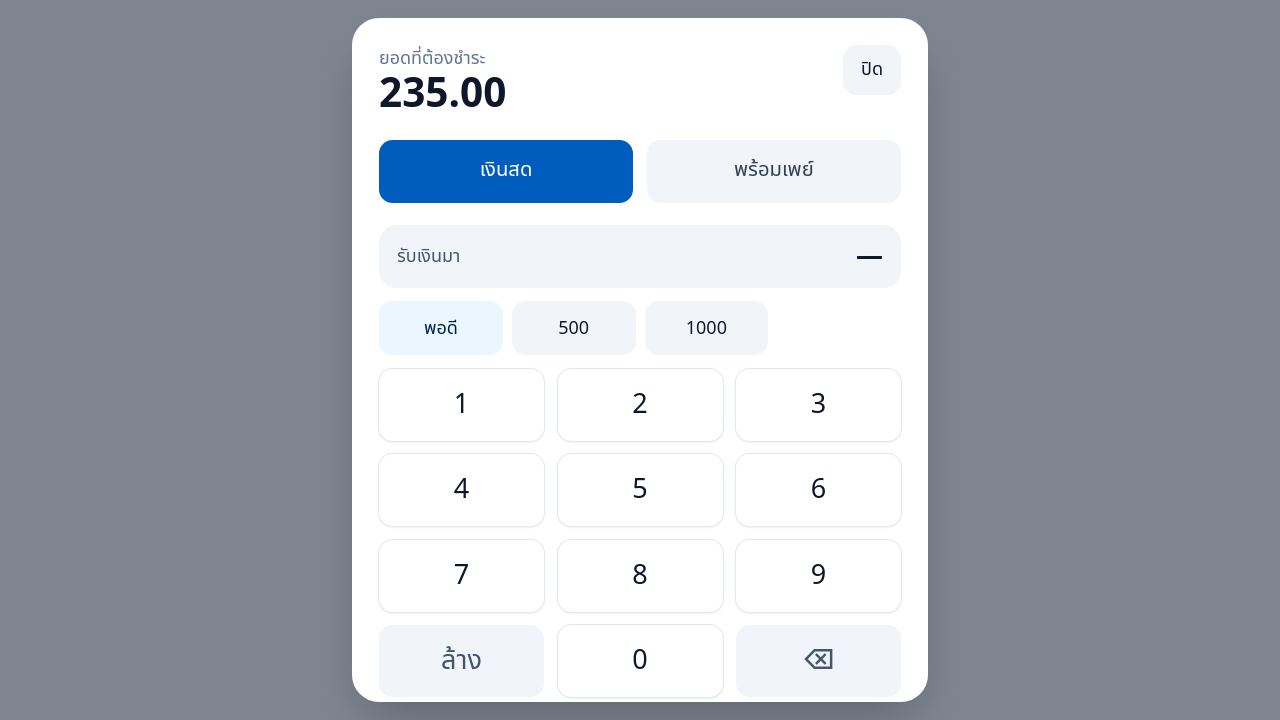
Test: cash › fills the exact amount in one tap
Click the button "พอดี".
click(441, 328)  # box [379, 302, 503, 356]
(page scrolled)
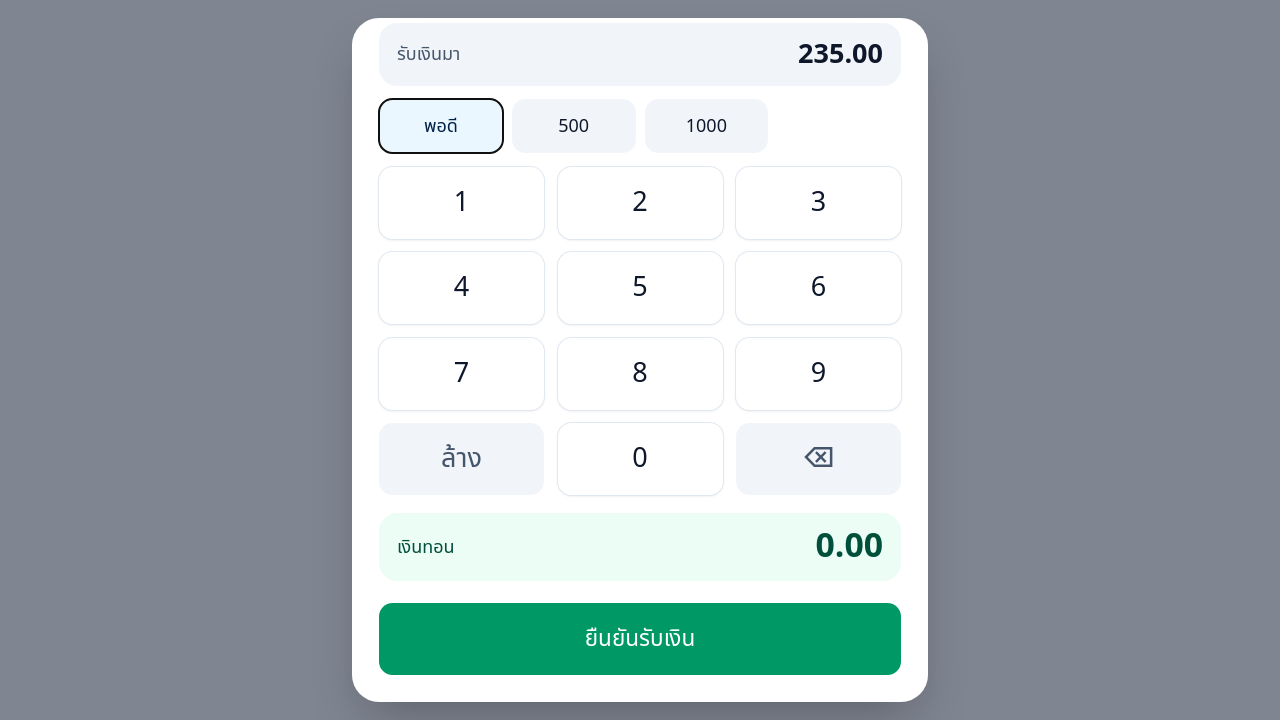
expect the button "ยืนยันรับเงิน" is enabled: met, box [379, 604, 901, 676]
expect the text "0.00" is shown: met, box [816, 527, 883, 568]
